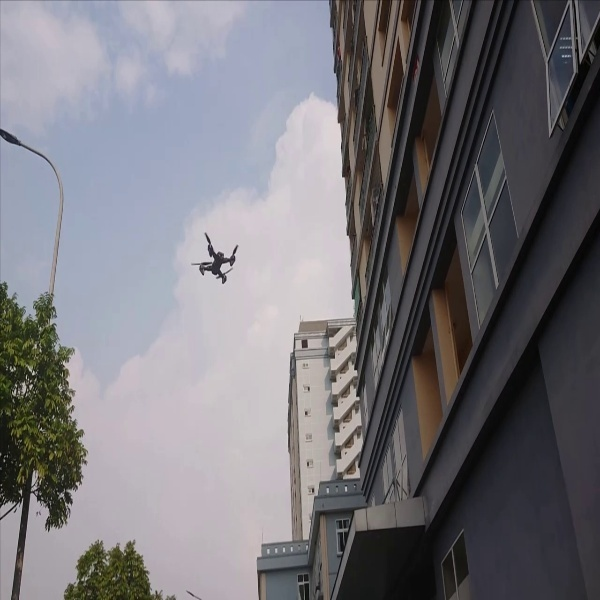drone: (183, 226, 247, 288)
